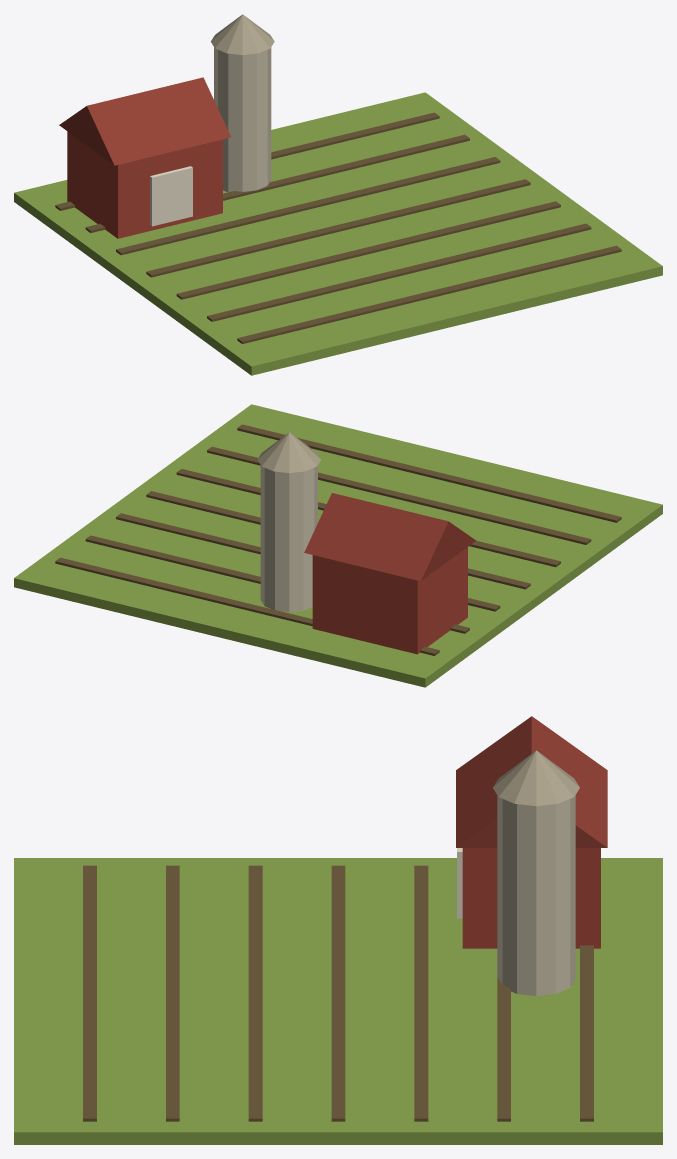
The model's file is farm.glb.
The picture shows the model from 3 angles, top to bottom: view 1: azimuth 30°, elevation 25°; view 2: azimuth 150°, elevation 25°; view 3: azimuth 270°, elevation 25°; orthographic projection. The views are drawn at different scales.
Visible parts, largest first — view 1: farm; view 2: farm; view 3: farm.
Part boxes in pixels (<box>): farm: <box>14,14,662,375</box>; farm: <box>14,404,662,687</box>; farm: <box>14,716,662,1144</box>.
Size of the model in its own units: 2.82 by 1.16 by 2.82.
